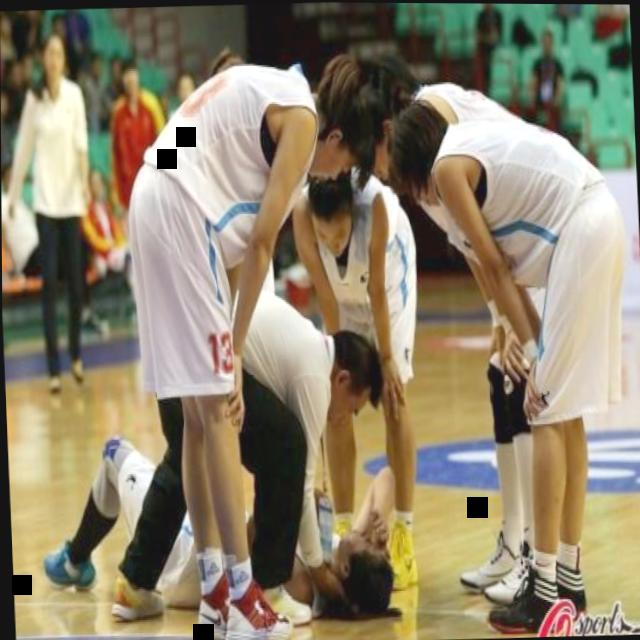Fall-Detected: (24, 421, 412, 636)
